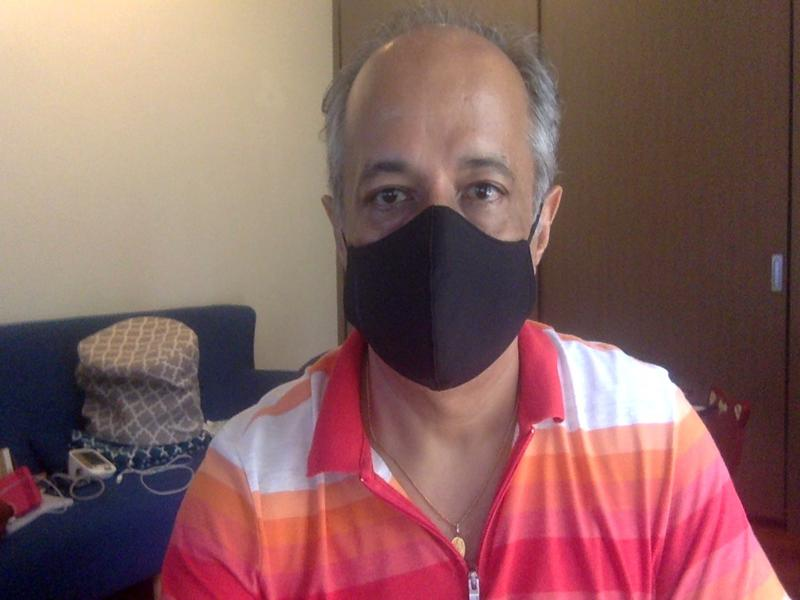mask: (301, 5, 591, 399)
